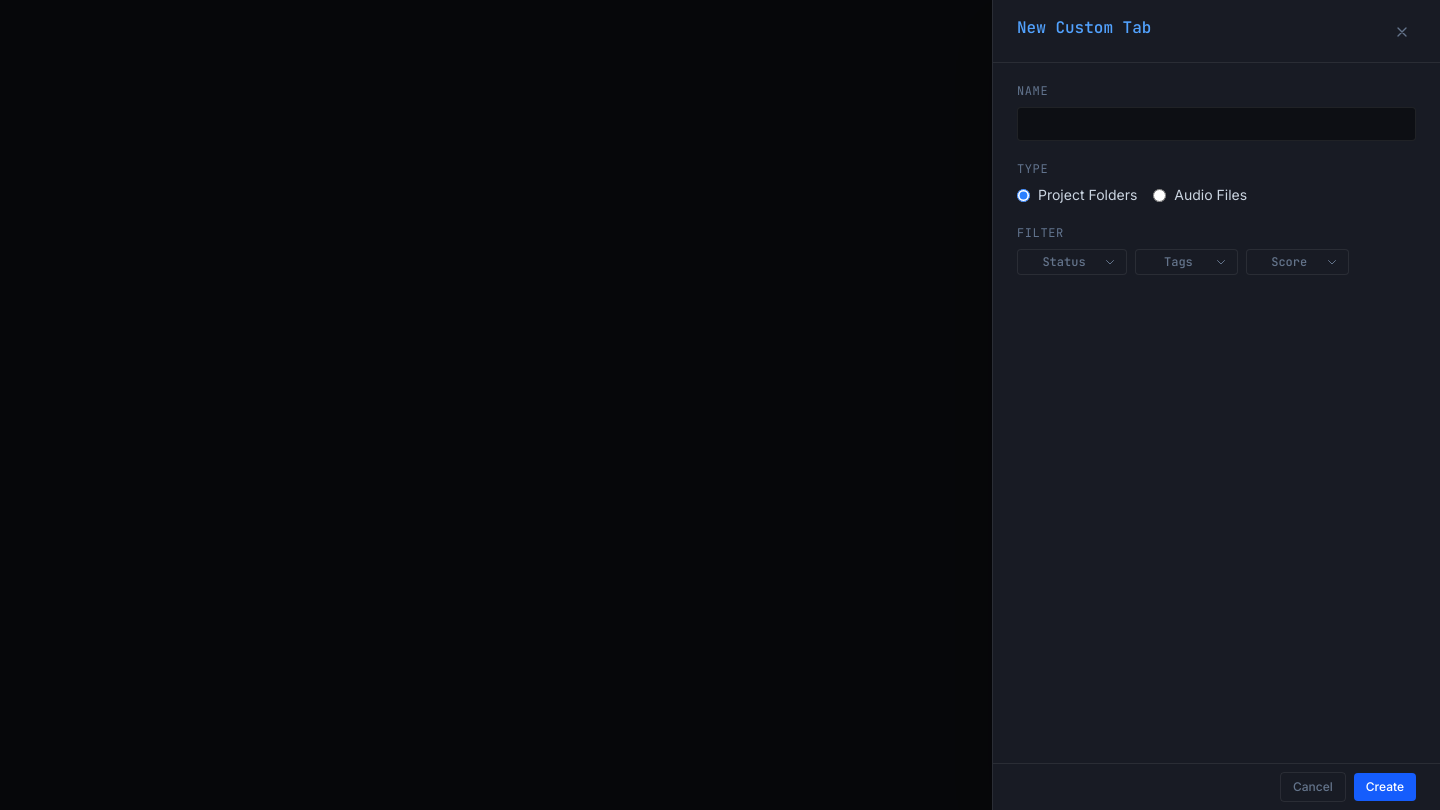
CreateCustomTabModal - Locations filter (files-only) › hides the Locations radio group again when switching back to 'Project Folders'
This screenshot has width=1440, height=810.
Click the radio button labelled "Audio Files" at (1160, 195), box [1153, 188, 1166, 202]
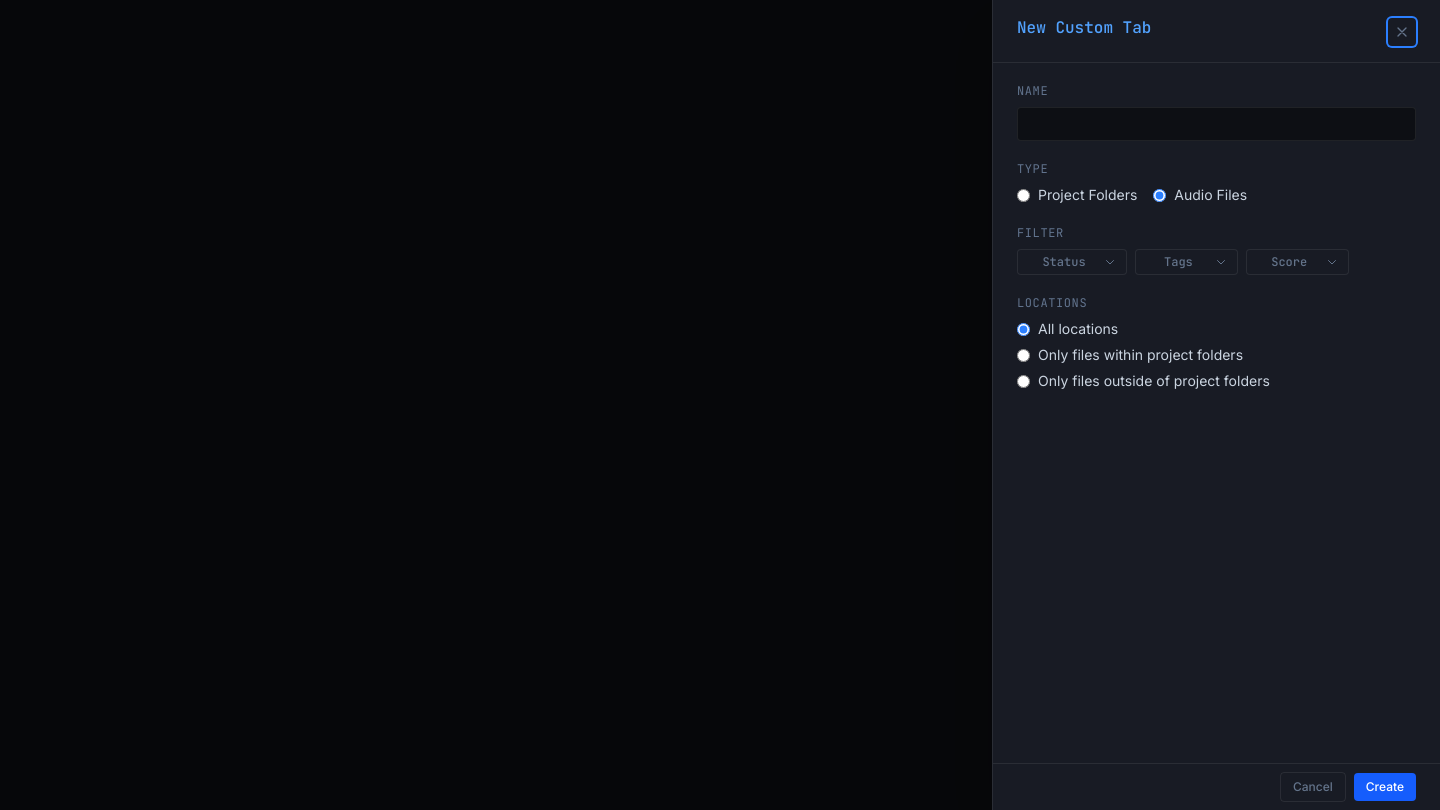
Click the radio button labelled "Project Folders" at (1024, 195), box [1017, 188, 1030, 202]
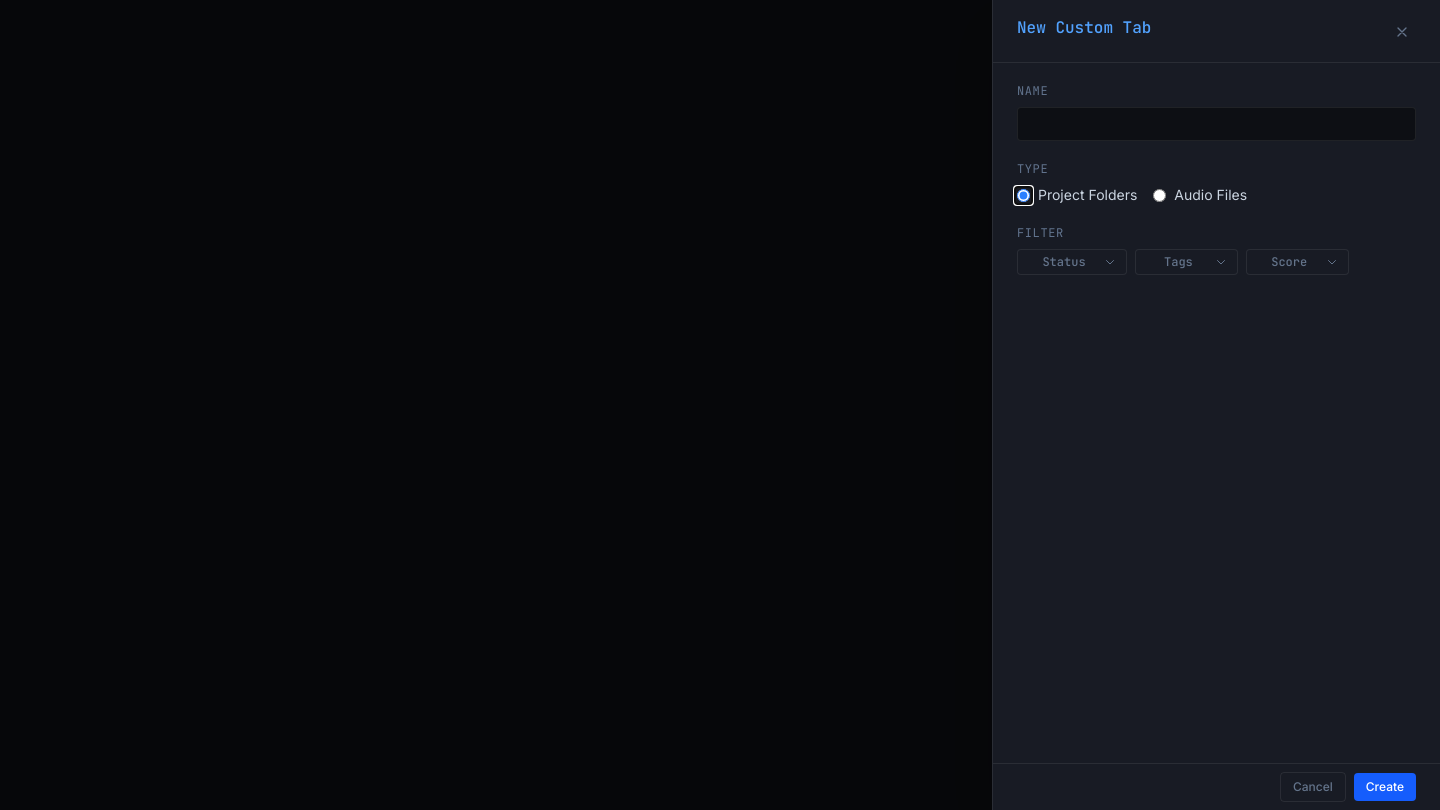
Result: the label "All locations" is gone
